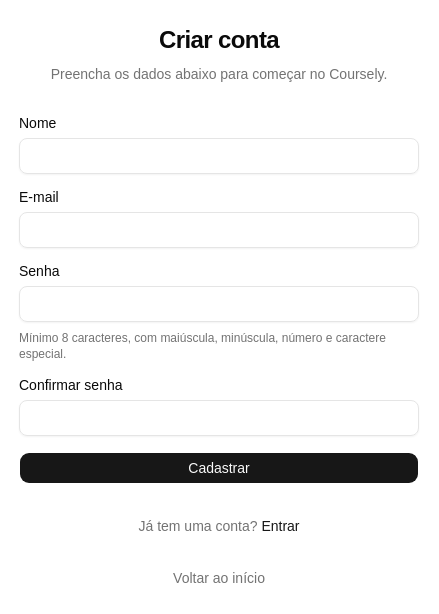
it: RegisterPage › shows error for weak password
Type "Jane" into the field labelled "Nome" at (219, 156), box [19,138,419,174]
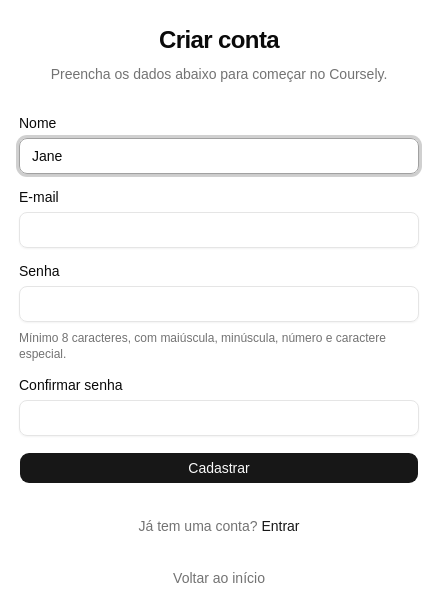
Type "jane@example.com" into the field labelled "E-mail" at (219, 230), box [19,212,419,248]
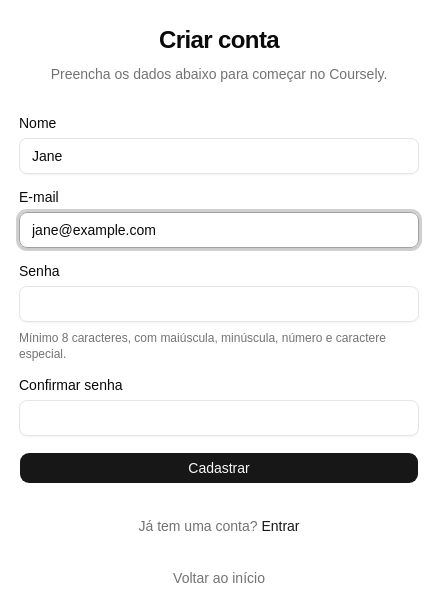
Type "weak" into the password field labelled "Senha" at (219, 304), box [19,286,419,322]
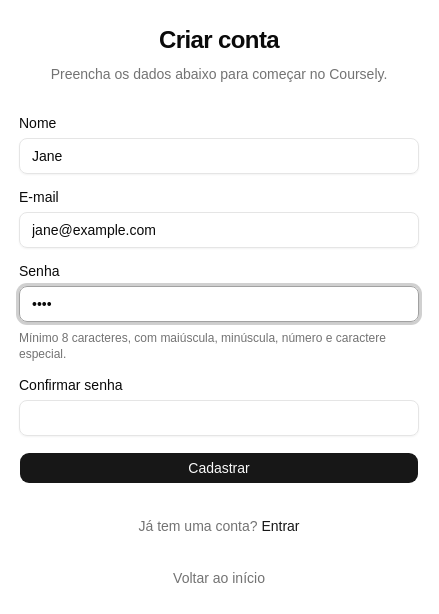
Type "weak" into the password field labelled "Confirmar senha" at (219, 418), box [19,400,419,436]
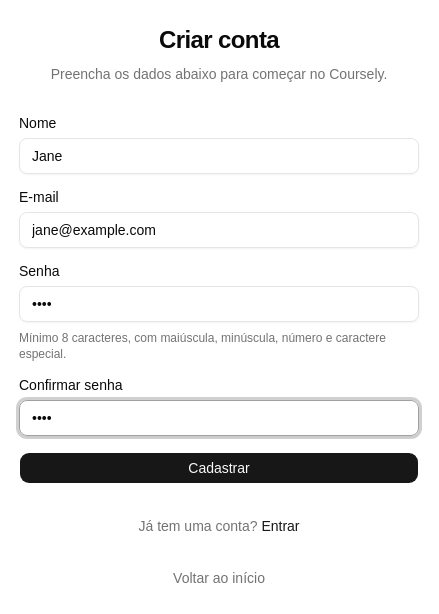
Click the button "Cadastrar" at (219, 468), box [19,452,419,484]
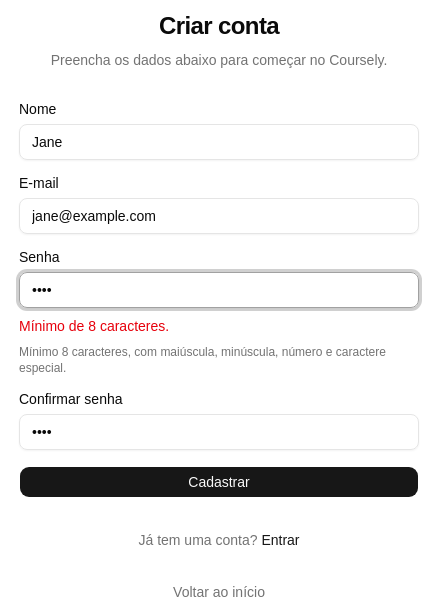
Result: the text "Mínimo de 8 caracteres." is shown at [19,318,169,334]
